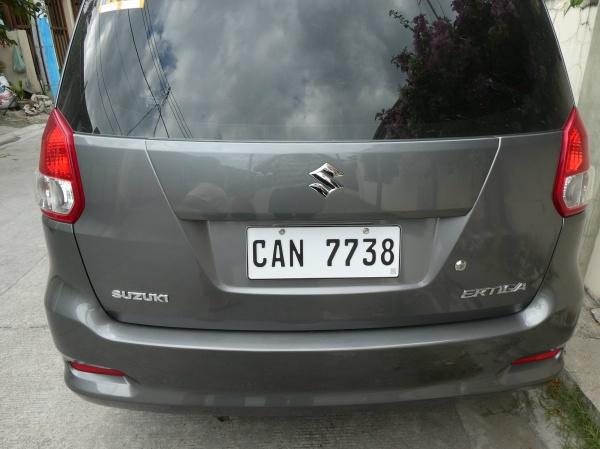plate: (248, 229, 399, 278)
